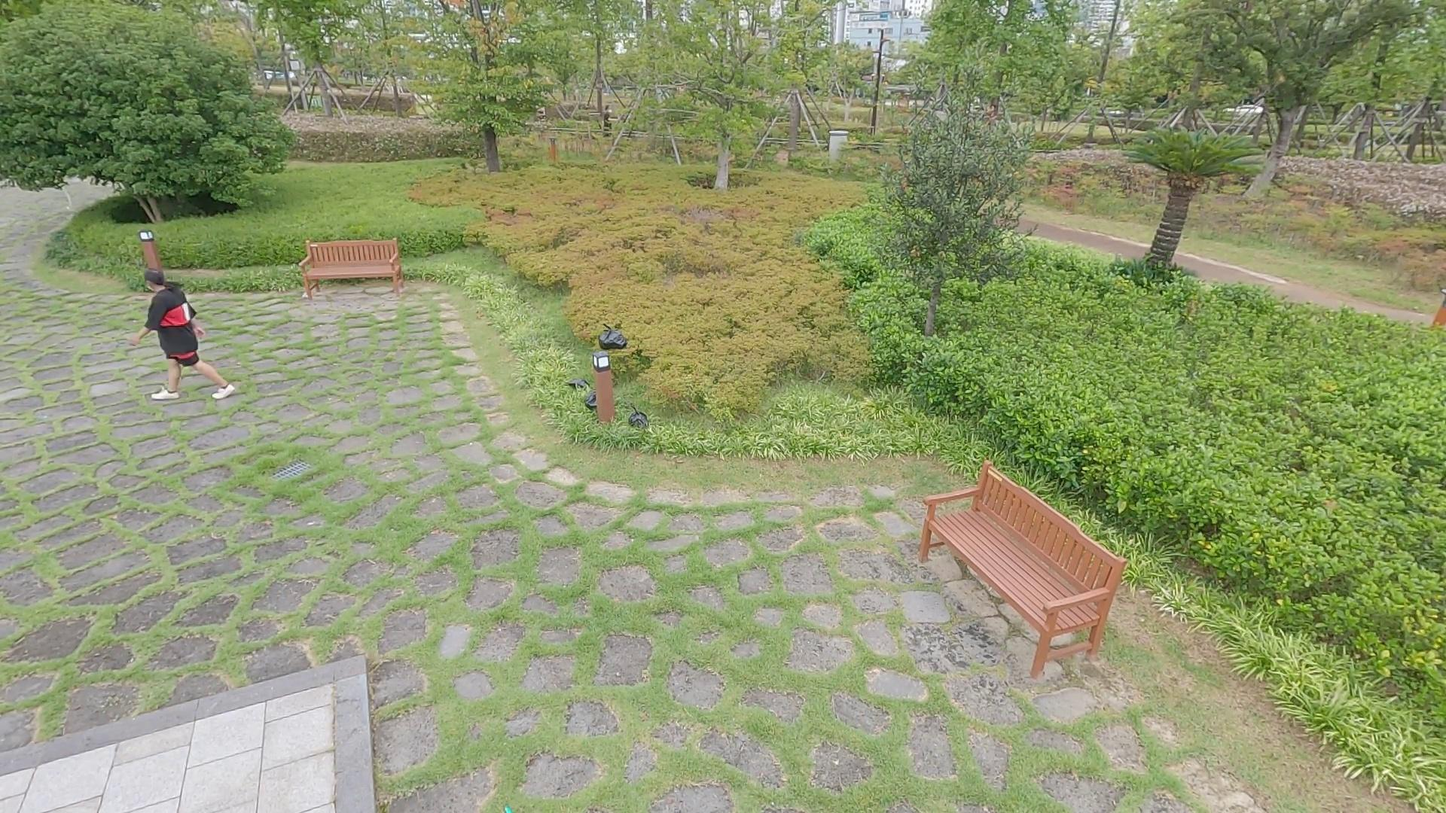person: (133, 269, 238, 406)
trash: (597, 322, 628, 350), (564, 374, 590, 392), (629, 409, 649, 432), (586, 388, 599, 412)
